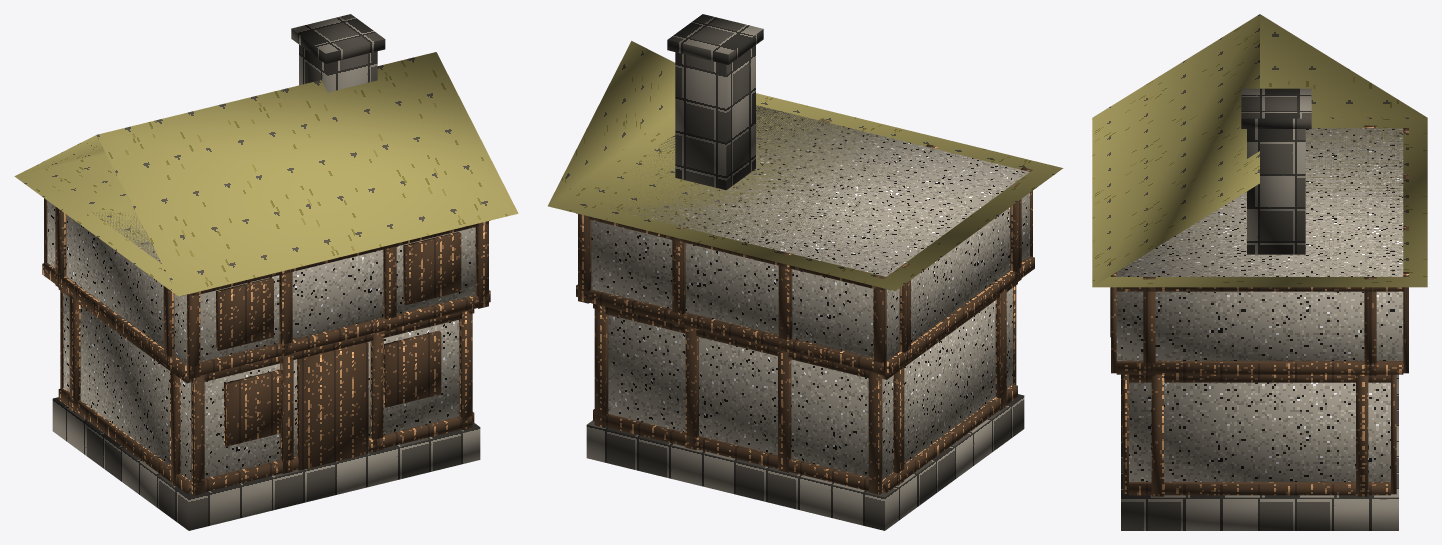
Rendered from house_a.glb.
3 renders of one model, left to right at view 1: azimuth 30°, elevation 25°; view 2: azimuth 150°, elevation 25°; view 3: azimuth 270°, elevation 25°, orthographic. The views are drawn at different scales.
Visible parts, largest first — view 1: HouseA; view 2: HouseA; view 3: HouseA.
Boxes of the visible parts, <box> form: HouseA: <box>14,14,518,530</box>; HouseA: <box>548,14,1063,530</box>; HouseA: <box>1092,14,1427,530</box>.
Size of the model in its own units: 4.9 by 5.32 by 4.1.
5 materials, 5 textured.
